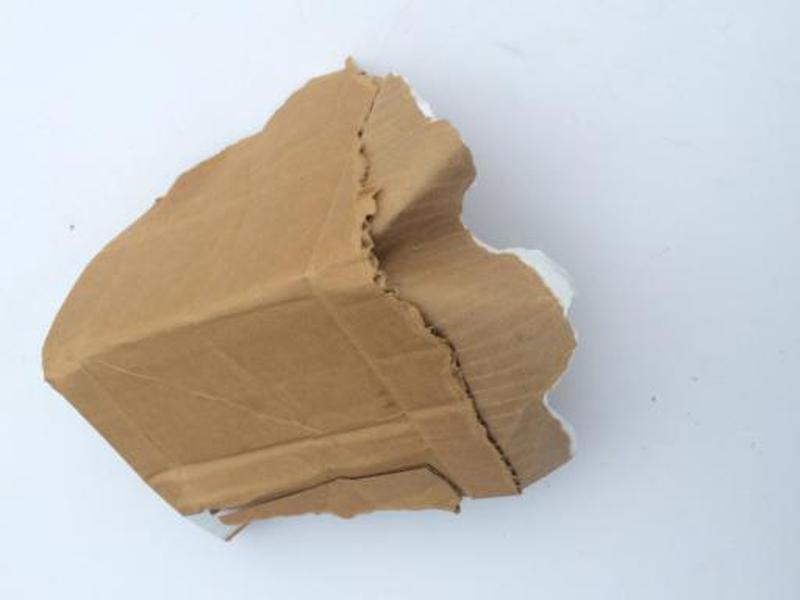cardboard: (36, 53, 595, 547)
